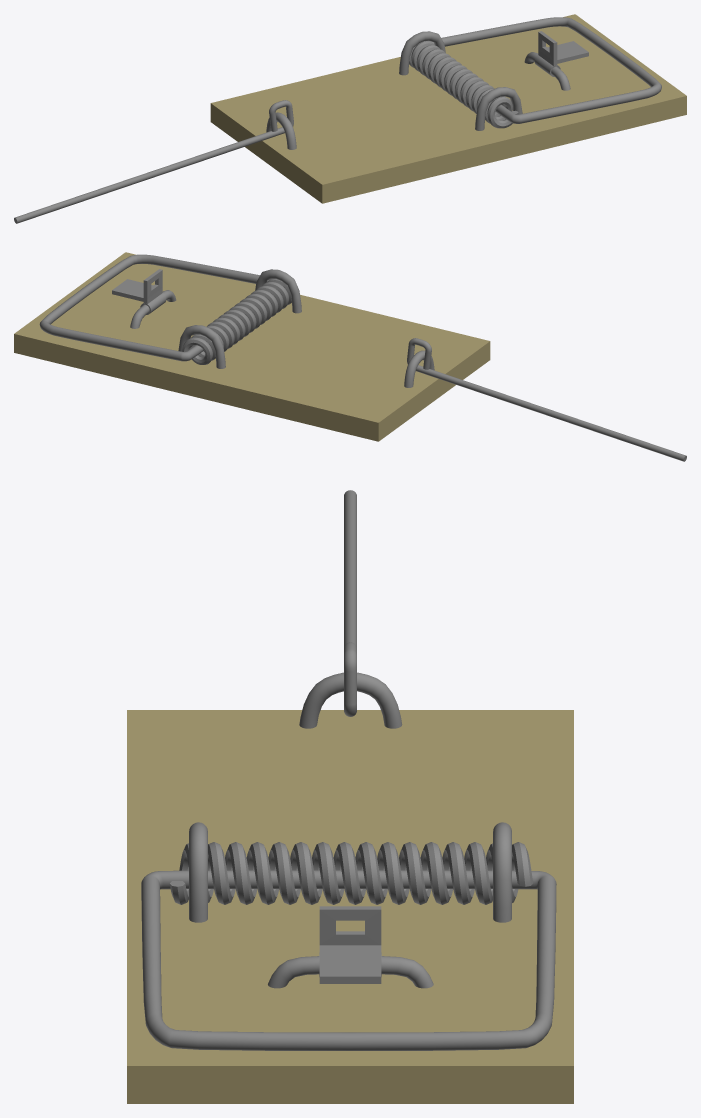
File: Activated_updated.fbx
The picture shows the model from 3 angles, top to bottom: view 1: azimuth 30°, elevation 25°; view 2: azimuth 150°, elevation 25°; view 3: azimuth 270°, elevation 25°; orthographic projection. The views are drawn at different scales.
Parts seen in each view (by area): view 1: pCube1, pTorus4, pHelix1, pCylinder1, pCube3, pTorus1, pTorus2, pTorus3, pTorus5; view 2: pCube1, pTorus4, pHelix1, pCylinder1, pCube3, pTorus2, pTorus1, pTorus3, pTorus5; view 3: pCube1, pHelix1, pTorus4, pCube3, pCylinder1, pTorus3, pTorus5, pTorus1, pTorus2.
Boxes of the visible parts, <box> form: pCube1: <box>210,14,686,203</box>; pTorus4: <box>429,17,661,123</box>; pHelix1: <box>409,40,518,128</box>; pCylinder1: <box>14,100,293,223</box>; pCube3: <box>534,31,588,76</box>; pTorus1: <box>475,87,522,130</box>; pTorus2: <box>399,31,445,75</box>; pTorus3: <box>266,112,296,149</box>; pTorus5: <box>524,52,570,90</box>; pCube1: <box>14,252,490,441</box>; pTorus4: <box>39,254,269,361</box>; pHelix1: <box>182,279,291,364</box>; pCylinder1: <box>407,338,686,461</box>; pCube3: <box>112,269,166,314</box>; pTorus2: <box>178,325,225,368</box>; pTorus1: <box>255,269,301,313</box>; pTorus3: <box>404,350,434,387</box>; pTorus5: <box>130,290,176,328</box>; pCube1: <box>127,710,573,1103</box>; pHelix1: <box>169,842,533,904</box>; pTorus4: <box>141,870,556,1050</box>; pCube3: <box>319,906,381,983</box>; pCylinder1: <box>344,490,356,716</box>; pTorus3: <box>299,672,402,728</box>; pTorus5: <box>268,956,433,988</box>; pTorus1: <box>189,822,207,922</box>; pTorus2: <box>493,822,511,922</box>.
Bounding box in the file's own units: 5.82 × 0.5236 × 1.83.
